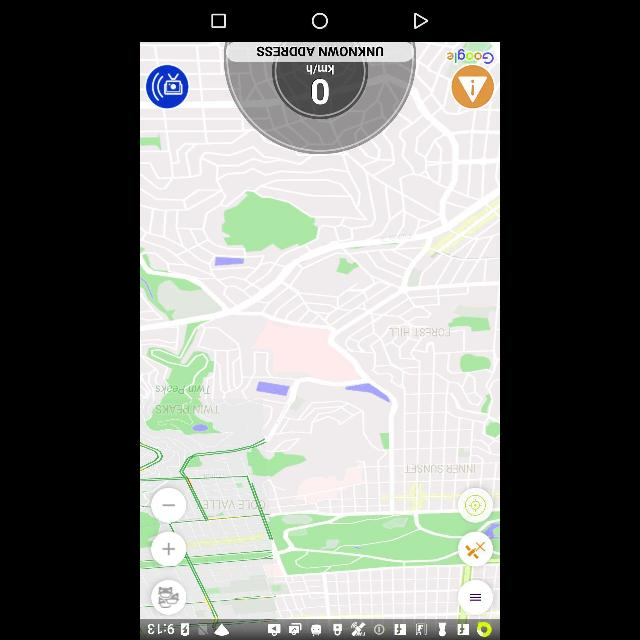icon: (312, 13, 328, 29), (414, 12, 428, 30), (212, 14, 226, 28)
map: (140, 43, 500, 619)
panel: (141, 1, 499, 42)
uppertaskbar: (141, 618, 499, 640)
